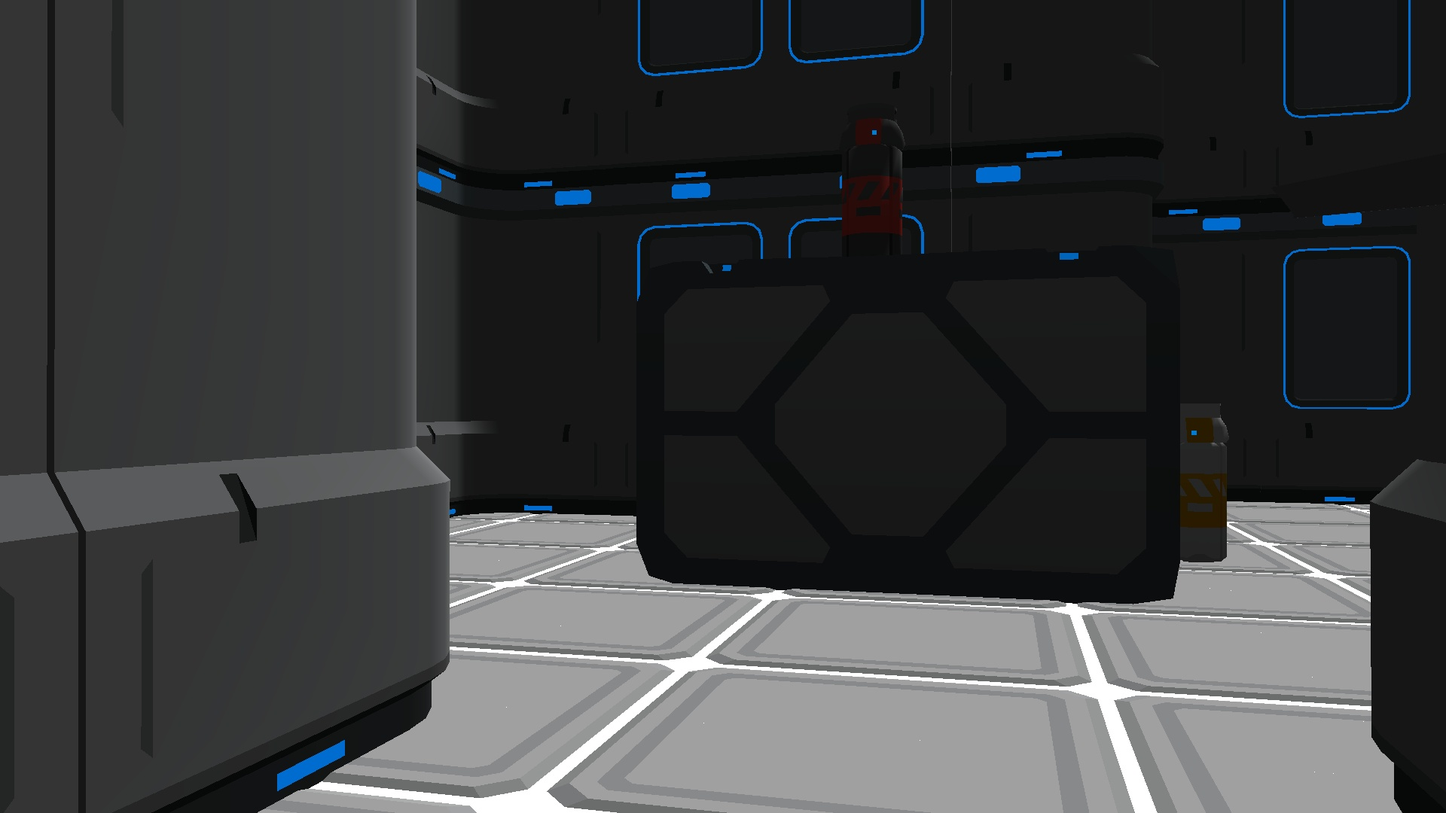red barrel: (842, 107, 905, 258)
yellow barrel: (1180, 403, 1227, 562)
